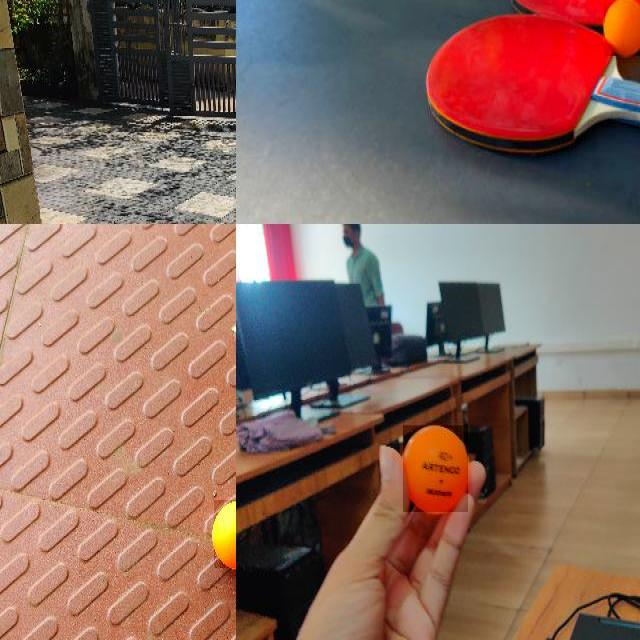ping-pong-ball: (403, 426, 469, 514), (604, 0, 639, 59), (213, 500, 235, 571)
